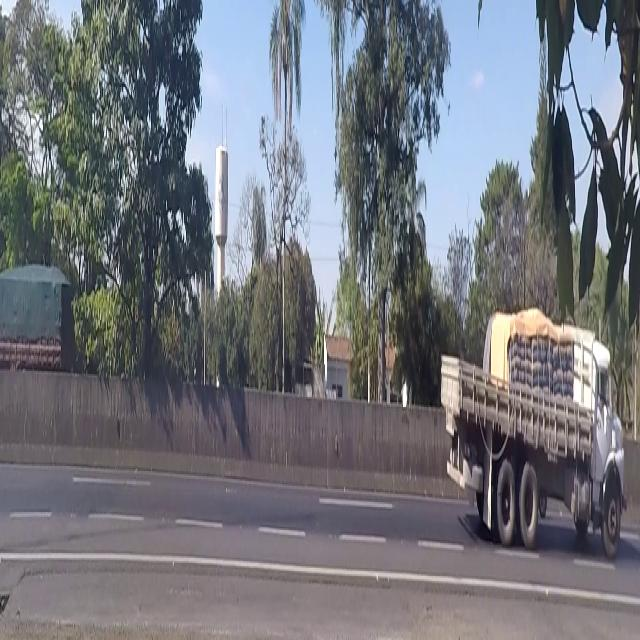-axle: (600, 476, 624, 565), (496, 452, 518, 546), (520, 450, 538, 556)
